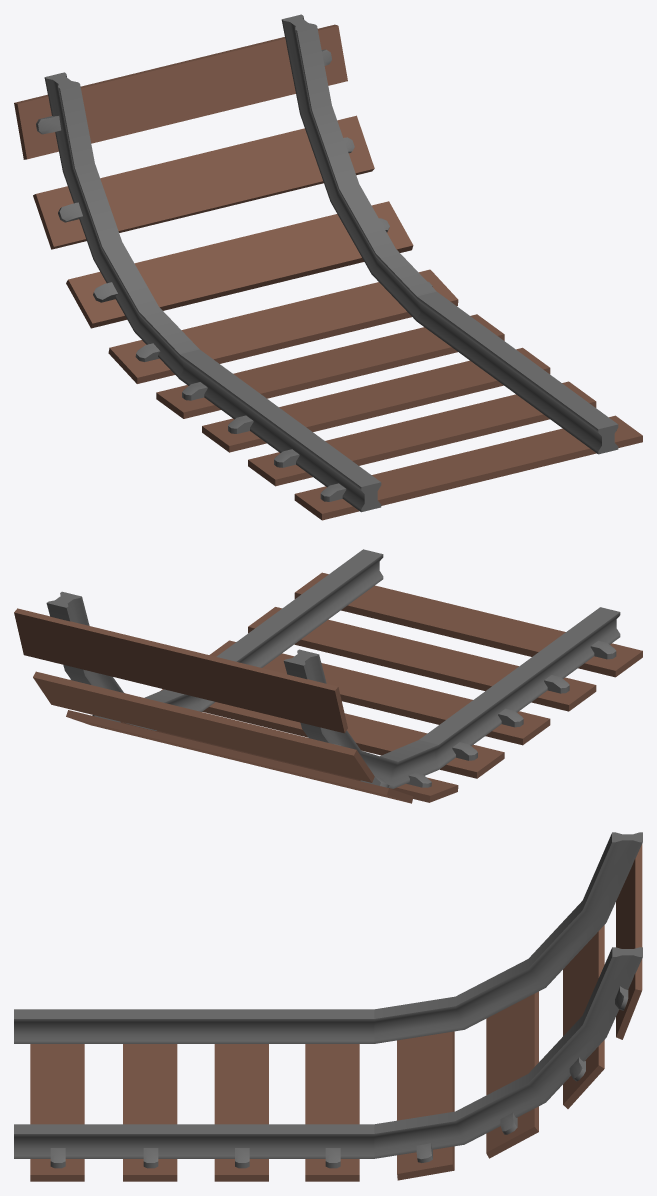
File: Trilho_curvo_UP.fbx
3 renders of one model, top to bottom at view 1: azimuth 30°, elevation 25°; view 2: azimuth 150°, elevation 25°; view 3: azimuth 270°, elevation 25°, orthographic.
Visible parts, largest first — view 1: Trilho_curvo_UP; view 2: Trilho_curvo_UP; view 3: Trilho_curvo_UP.
Boxes of the visible parts, <box> form: Trilho_curvo_UP: <box>14,14,642,520</box>; Trilho_curvo_UP: <box>14,549,642,803</box>; Trilho_curvo_UP: <box>14,832,642,1181</box>.
Bounding box in the file's own units: 203 × 127 × 347.
